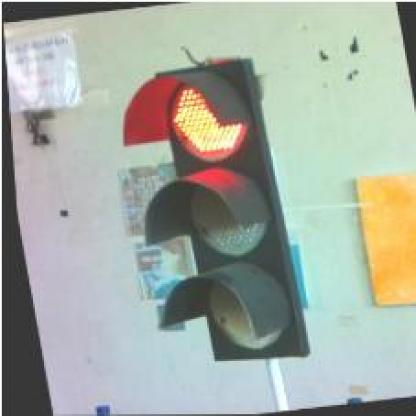red: (107, 59, 307, 373)
